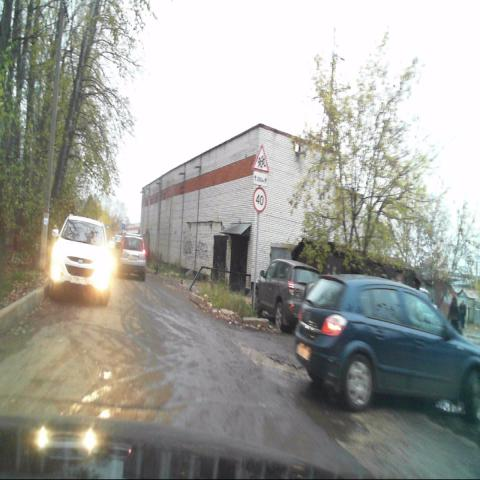1_23: (253, 146, 269, 173)
